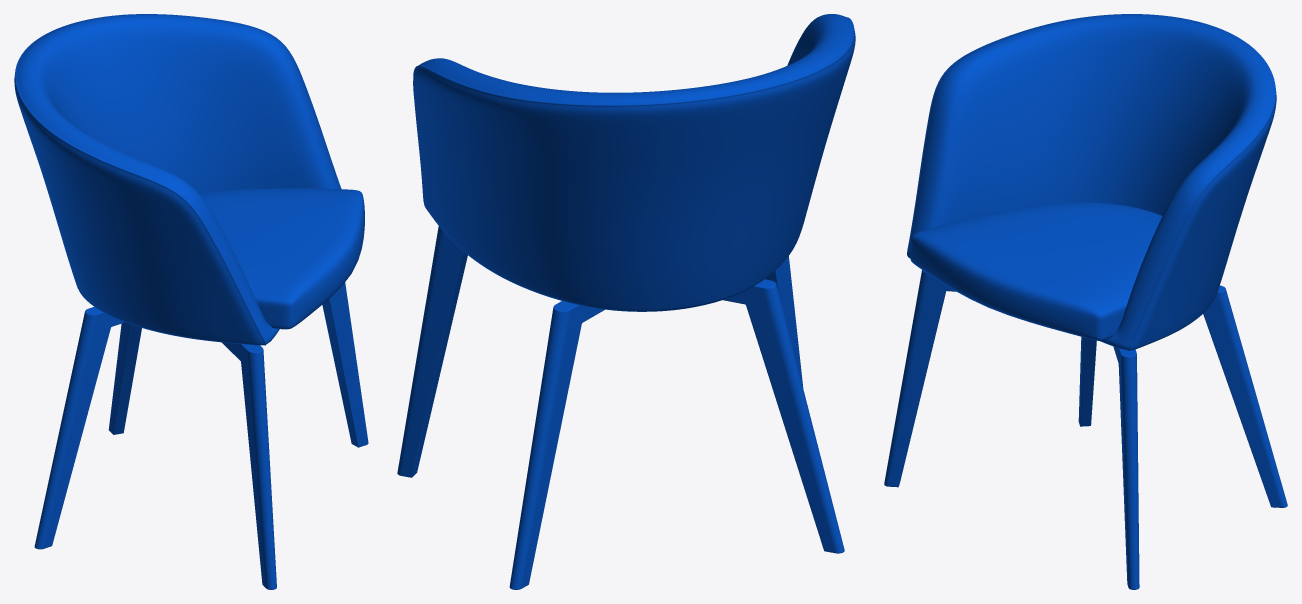
The model's file is chair.glb.
3 renders of one model, left to right at view 1: azimuth 30°, elevation 25°; view 2: azimuth 150°, elevation 25°; view 3: azimuth 270°, elevation 25°, orthographic. The views are drawn at different scales.
Visible parts, largest first — view 1: chair; view 2: chair; view 3: chair.
Boxes of the visible parts, left/top/right/bottom form: chair: left=14, top=14, right=368, bottom=589; chair: left=397, top=14, right=855, bottom=589; chair: left=884, top=14, right=1287, bottom=589.
Size of the model in its own units: 0.6658 by 0.7642 by 0.6658.
